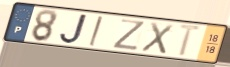8: (30, 8, 59, 44)
I: (87, 15, 104, 48)
J: (58, 12, 90, 45)
T: (177, 23, 205, 58)
X: (139, 21, 176, 56)
Z: (110, 18, 147, 52)
